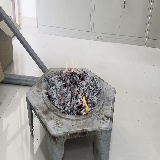fire: (82, 96, 88, 113), (65, 60, 74, 71)
